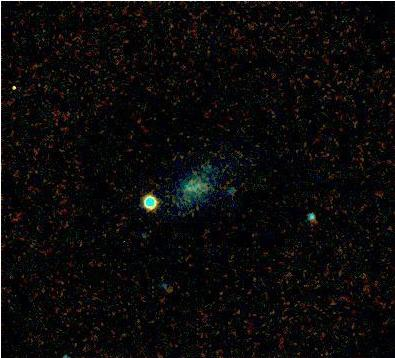star: (0, 73, 30, 103)
